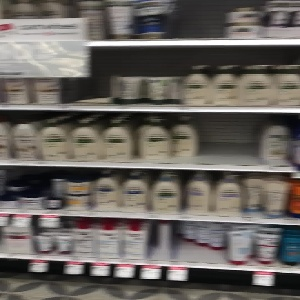void: (198, 115, 261, 162), (172, 1, 225, 38), (77, 51, 109, 103)
